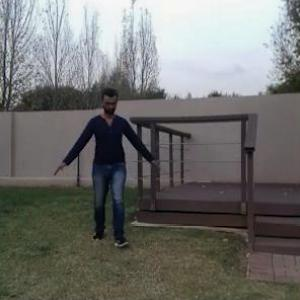land: (59, 80, 165, 264)
